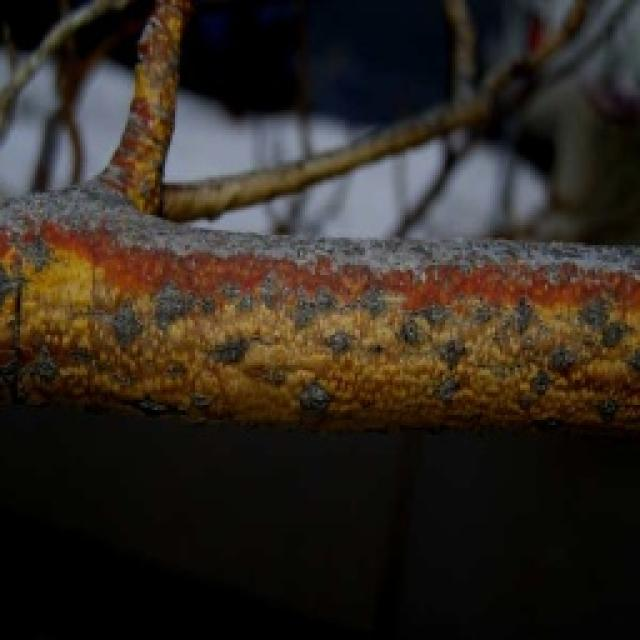Golden_canker: (13, 103, 640, 473)
